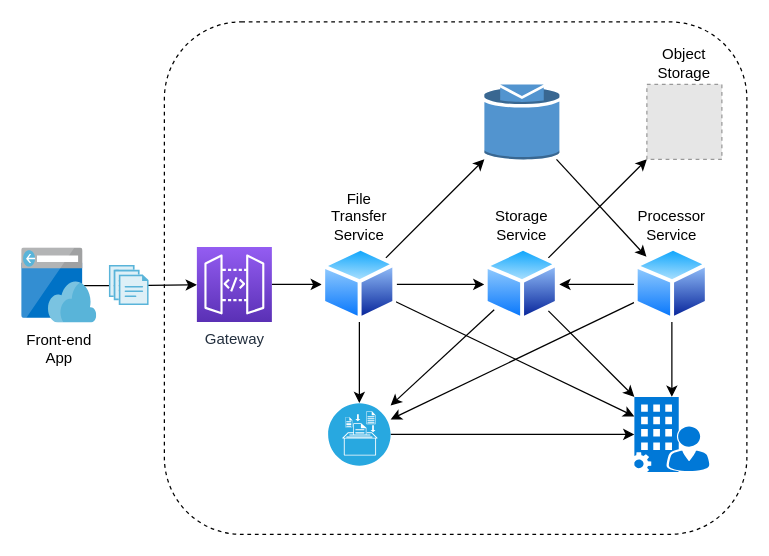
This 769x556 diagram has some shape labels left out. Grey dashed boxes stand in for pictures. The centre of each missing label's shape, as x and y in pixels:
"Admin Server" goes at (x=671, y=433).
"Incoming Topic" goes at (x=521, y=121).
"Logging" goes at (x=359, y=434).
